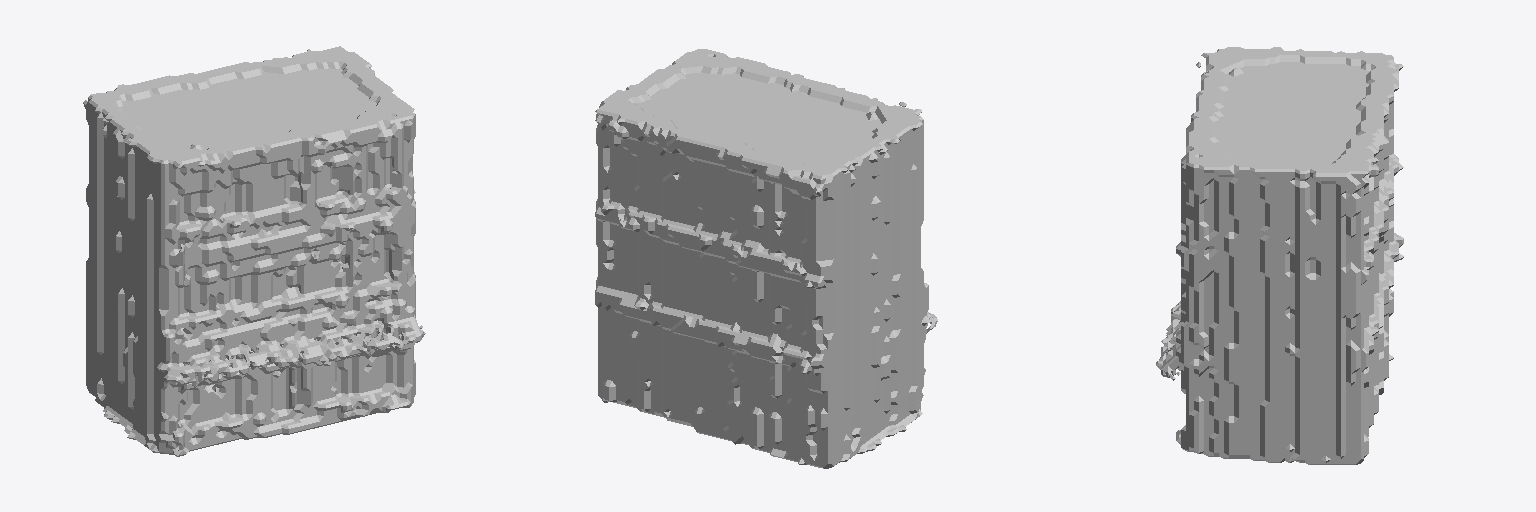
Rendered from gen9_colored.obj.
3 renders of one model, left to right at view 1: azimuth 30°, elevation 25°; view 2: azimuth 150°, elevation 25°; view 3: azimuth 270°, elevation 25°, orthographic.
Parts seen in each view (by area): view 1: gen9.obj; view 2: gen9.obj; view 3: gen9.obj.
Boxes of the visible parts, x1,y1,x2,y2 form: gen9.obj: [83, 46, 425, 456]; gen9.obj: [595, 49, 937, 468]; gen9.obj: [1156, 47, 1403, 464].
Bounding box in the file's own units: 61 × 64 × 49.